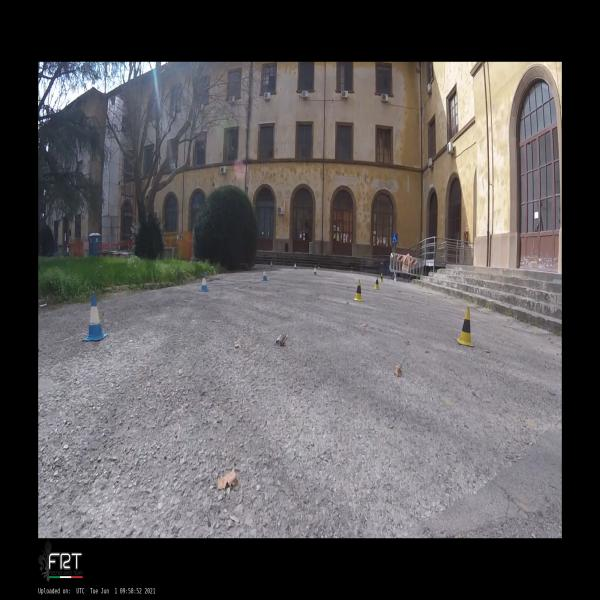blue_cone: (83, 292, 108, 342), (199, 272, 209, 291), (261, 267, 268, 281), (313, 265, 318, 276), (293, 262, 297, 270), (270, 262, 272, 267)
yellow_cone: (457, 307, 474, 346), (354, 280, 364, 302), (373, 275, 379, 289), (380, 273, 384, 282), (350, 266, 353, 273), (318, 263, 320, 269)
